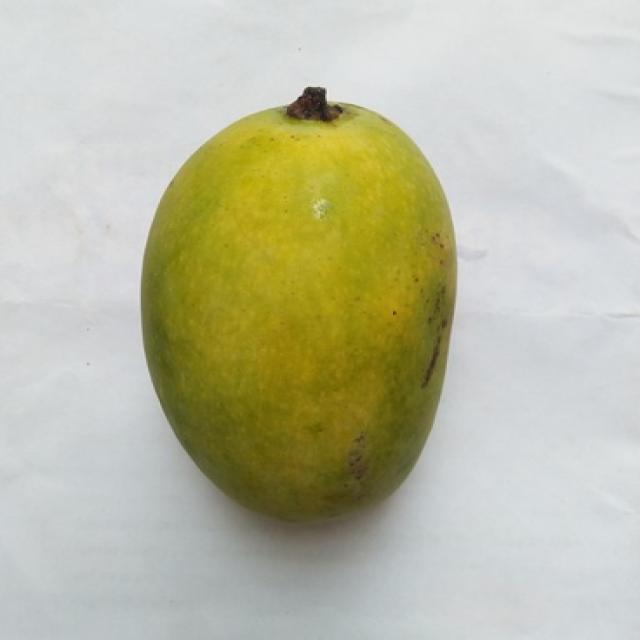Mango: (141, 104, 456, 520)
